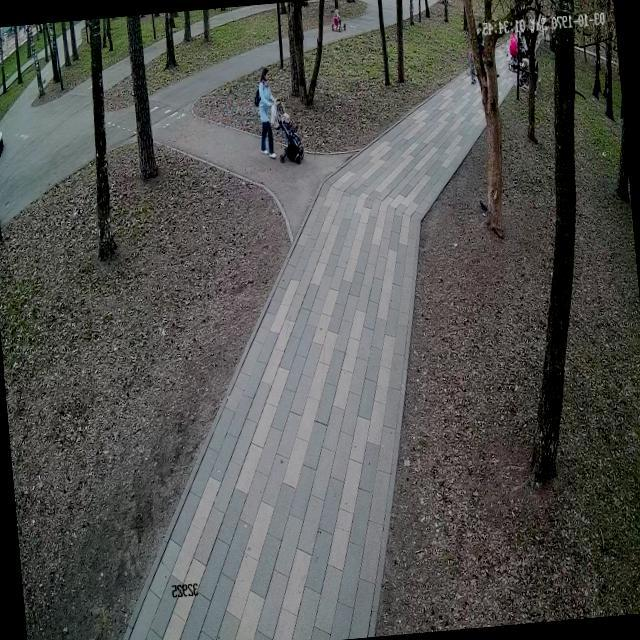person: (253, 66, 280, 160)
